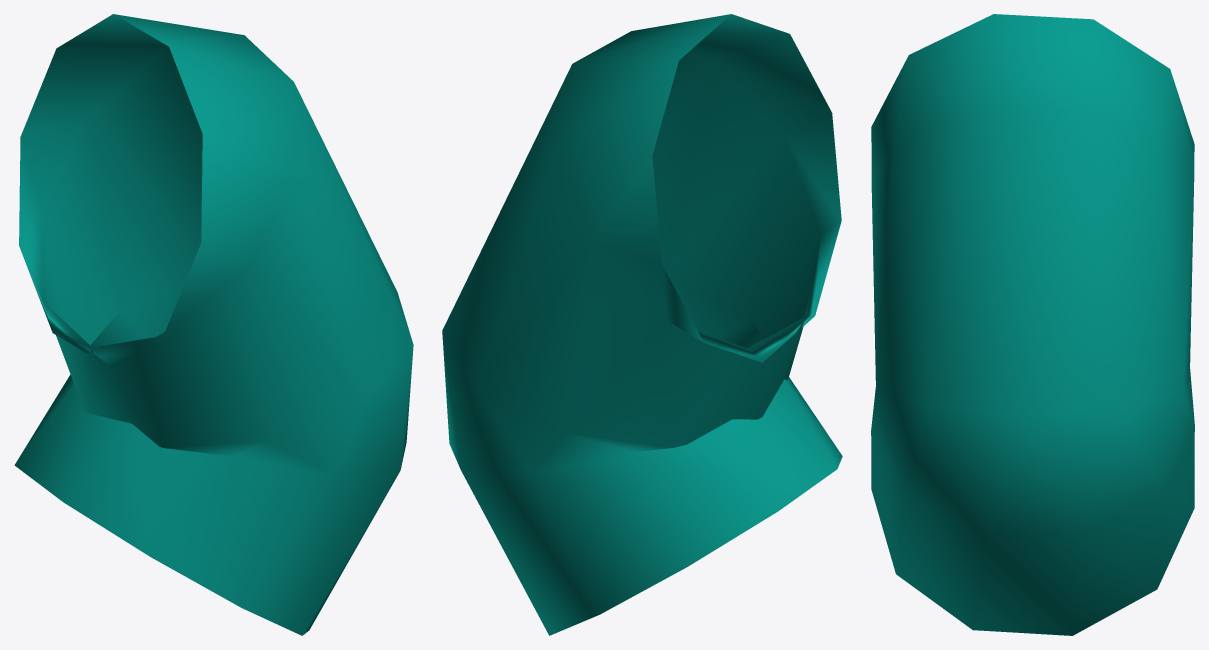
The picture shows the model from 3 angles, left to right: view 1: azimuth 30°, elevation 25°; view 2: azimuth 150°, elevation 25°; view 3: azimuth 270°, elevation 25°; orthographic projection. The views are drawn at different scales.
Parts seen in each view (by area): view 1: TubeRenderer(Clone); view 2: TubeRenderer(Clone); view 3: TubeRenderer(Clone).
Boxes of the visible parts, x1=… form: TubeRenderer(Clone): x1=14, y1=14, x2=413, y2=635; TubeRenderer(Clone): x1=442, y1=14, x2=842, y2=635; TubeRenderer(Clone): x1=871, y1=14, x2=1194, y2=635.
Size of the model in its own units: 0.1529 by 0.2552 by 0.1333.
